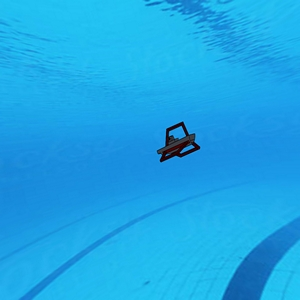submarine: (154, 122, 205, 157)
